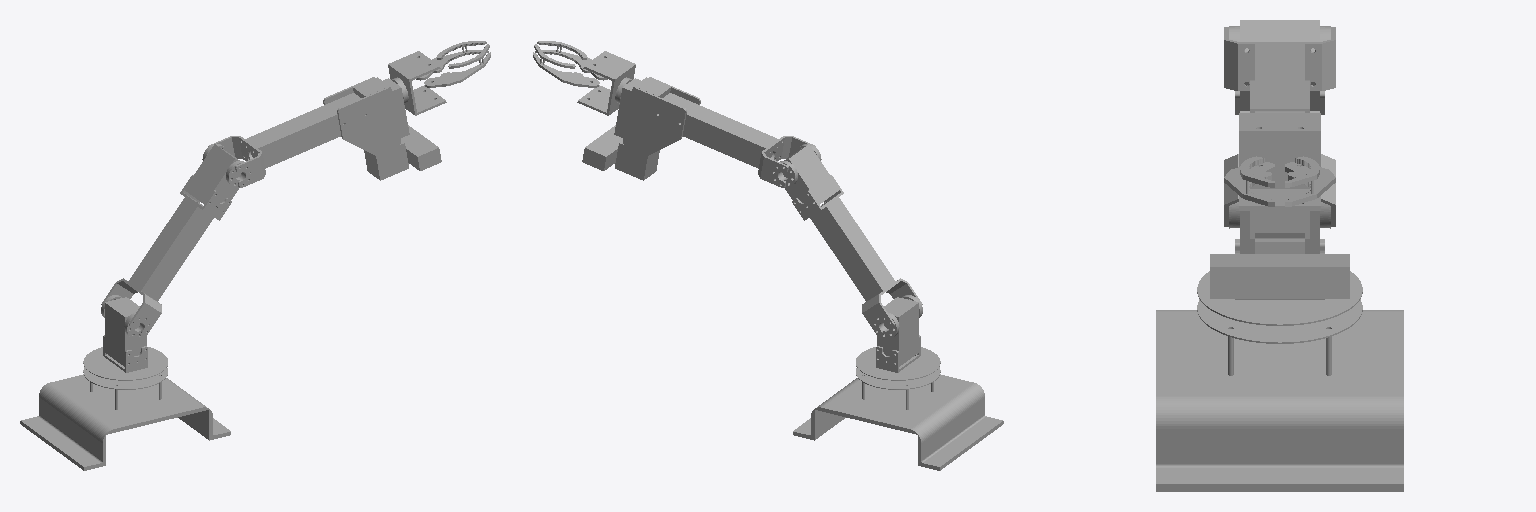
The robot description file, URDF, robot "angle_excurate_arm_ver2":
<?xml version="1.0" ?>
<!-- =================================================================================== -->
<!-- |    This document was autogenerated by xacro from urdf\angle_excurate_arm_ver2.xacro.temp | -->
<!-- |    EDITING THIS FILE BY HAND IS NOT RECOMMENDED                                 | -->
<!-- =================================================================================== -->
<robot xmlns:xacro="http://www.ros.org/wiki/xacro" name="angle_excurate_arm_ver2">
  <material name="silver">
    <color rgba="0.700 0.700 0.700 1.000"/>
  </material>
  <transmission name="Revolute 1_tran">
    <type>transmission_interface/SimpleTransmission</type>
    <joint name="Revolute 1">
      <hardwareInterface>hardware_interface/EffortJointInterface</hardwareInterface>
    </joint>
    <actuator name="Revolute 1_actr">
      <hardwareInterface>hardware_interface/EffortJointInterface</hardwareInterface>
      <mechanicalReduction>1</mechanicalReduction>
    </actuator>
  </transmission>
  <transmission name="Revolute 2_tran">
    <type>transmission_interface/SimpleTransmission</type>
    <joint name="Revolute 2">
      <hardwareInterface>hardware_interface/EffortJointInterface</hardwareInterface>
    </joint>
    <actuator name="Revolute 2_actr">
      <hardwareInterface>hardware_interface/EffortJointInterface</hardwareInterface>
      <mechanicalReduction>1</mechanicalReduction>
    </actuator>
  </transmission>
  <transmission name="Revolute 3_tran">
    <type>transmission_interface/SimpleTransmission</type>
    <joint name="Revolute 3">
      <hardwareInterface>hardware_interface/EffortJointInterface</hardwareInterface>
    </joint>
    <actuator name="Revolute 3_actr">
      <hardwareInterface>hardware_interface/EffortJointInterface</hardwareInterface>
      <mechanicalReduction>1</mechanicalReduction>
    </actuator>
  </transmission>
  <transmission name="Revolute 4_tran">
    <type>transmission_interface/SimpleTransmission</type>
    <joint name="Revolute 4">
      <hardwareInterface>hardware_interface/EffortJointInterface</hardwareInterface>
    </joint>
    <actuator name="Revolute 4_actr">
      <hardwareInterface>hardware_interface/EffortJointInterface</hardwareInterface>
      <mechanicalReduction>1</mechanicalReduction>
    </actuator>
  </transmission>
  <transmission name="Revolute 5_tran">
    <type>transmission_interface/SimpleTransmission</type>
    <joint name="Revolute 5">
      <hardwareInterface>hardware_interface/EffortJointInterface</hardwareInterface>
    </joint>
    <actuator name="Revolute 5_actr">
      <hardwareInterface>hardware_interface/EffortJointInterface</hardwareInterface>
      <mechanicalReduction>1</mechanicalReduction>
    </actuator>
  </transmission>
  <transmission name="Revolute 6_tran">
    <type>transmission_interface/SimpleTransmission</type>
    <joint name="Revolute 6">
      <hardwareInterface>hardware_interface/EffortJointInterface</hardwareInterface>
    </joint>
    <actuator name="Revolute 6_actr">
      <hardwareInterface>hardware_interface/EffortJointInterface</hardwareInterface>
      <mechanicalReduction>1</mechanicalReduction>
    </actuator>
  </transmission>
  <!-- omitted .gazebo include -->
  <link name="base_link">
    <inertial>
      <origin xyz="1.8745796736605483e-12 -2.6846557552026664e-18 0.04000014999999999" rpy="0 0 0"/>
      <mass value="7.925585093654501e-07"/>
      <inertia ixx="0.0" iyy="0.0" izz="0.0" ixy="-0.0" iyz="-0.0" ixz="-0.0"/>
    </inertial>
    <visual>
      <origin xyz="0 0 0" rpy="0 0 0"/>
      <geometry>
        <mesh filename="package://robot_description/meshes/base_link.stl" scale="0.001 0.001 0.001"/>
      </geometry>
      <material name="silver"/>
    </visual>
    <collision>
      <origin xyz="0 0 0" rpy="0 0 0"/>
      <geometry>
        <mesh filename="package://robot_description/meshes/base_link.stl" scale="0.001 0.001 0.001"/>
      </geometry>
    </collision>
  </link>
  <link name="base_link2_v2_1">
    <inertial>
      <origin xyz="-5.553953613832533e-14 1.6607364926774611e-07 0.04484512943360931" rpy="0 0 0"/>
      <mass value="0.8724221516717809"/>
      <inertia ixx="0.000636" iyy="0.000529" izz="0.000308" ixy="0.0" iyz="0.0" ixz="0.0"/>
    </inertial>
    <visual>
      <origin xyz="0.0 -0.0 -0.076" rpy="0 0 0"/>
      <geometry>
        <mesh filename="package://robot_description/meshes/base_link2_v2_1.stl" scale="0.001 0.001 0.001"/>
      </geometry>
      <material name="silver"/>
    </visual>
    <collision>
      <origin xyz="0.0 -0.0 -0.076" rpy="0 0 0"/>
      <geometry>
        <mesh filename="package://robot_description/meshes/base_link2_v2_1.stl" scale="0.001 0.001 0.001"/>
      </geometry>
    </collision>
  </link>
  <link name="link3_v1_1">
    <inertial>
      <origin xyz="0.08484392825641267 8.013781706481686e-08 0.10111325630955267" rpy="0 0 0"/>
      <mass value="1.7894494256516058"/>
      <inertia ixx="0.00475" iyy="0.007559" izz="0.003484" ixy="-0.0" iyz="-0.0" ixz="-0.003589"/>
    </inertial>
    <visual>
      <origin xyz="0.0 0.0 -0.146342" rpy="0 0 0"/>
      <geometry>
        <mesh filename="package://robot_description/meshes/link3_v1_1.stl" scale="0.001 0.001 0.001"/>
      </geometry>
      <material name="silver"/>
    </visual>
    <collision>
      <origin xyz="0.0 0.0 -0.146342" rpy="0 0 0"/>
      <geometry>
        <mesh filename="package://robot_description/meshes/link3_v1_1.stl" scale="0.001 0.001 0.001"/>
      </geometry>
    </collision>
  </link>
  <link name="link4_v1_1">
    <inertial>
      <origin xyz="0.15672887830534532 1.2952542993477877e-09 0.010698555149691258" rpy="0 0 0"/>
      <mass value="2.6308677332376194"/>
      <inertia ixx="0.002021" iyy="0.01307" izz="0.011727" ixy="-0.0" iyz="0.0" ixz="0.000564"/>
    </inertial>
    <visual>
      <origin xyz="-0.137776 0.0 -0.310538" rpy="0 0 0"/>
      <geometry>
        <mesh filename="package://robot_description/meshes/link4_v1_1.stl" scale="0.001 0.001 0.001"/>
      </geometry>
      <material name="silver"/>
    </visual>
    <collision>
      <origin xyz="-0.137776 0.0 -0.310538" rpy="0 0 0"/>
      <geometry>
        <mesh filename="package://robot_description/meshes/link4_v1_1.stl" scale="0.001 0.001 0.001"/>
      </geometry>
    </collision>
  </link>
  <link name="robot_ver7_link_4_v1_1">
    <inertial>
      <origin xyz="0.017892495703135003 -1.6181256950123296e-09 0.003154951933928285" rpy="0 0 0"/>
      <mass value="0.1836674229836172"/>
      <inertia ixx="9.9e-05" iyy="0.000103" izz="7.2e-05" ixy="0.0" iyz="0.0" ixz="5e-06"/>
    </inertial>
    <visual>
      <origin xyz="-0.36806 0.0 -0.352664" rpy="0 0 0"/>
      <geometry>
        <mesh filename="package://robot_description/meshes/robot_ver7_link_4_v1_1.stl" scale="0.001 0.001 0.001"/>
      </geometry>
      <material name="silver"/>
    </visual>
    <collision>
      <origin xyz="-0.36806 0.0 -0.352664" rpy="0 0 0"/>
      <geometry>
        <mesh filename="package://robot_description/meshes/robot_ver7_link_4_v1_1.stl" scale="0.001 0.001 0.001"/>
      </geometry>
    </collision>
  </link>
  <link name="robot_ver7_grap2_2_v1_1">
    <inertial>
      <origin xyz="0.031884649247926056 -0.0055870722111976065 0.00827502813362807" rpy="0 0 0"/>
      <mass value="0.04062678364092949"/>
      <inertia ixx="4e-06" iyy="2.6e-05" izz="2.5e-05" ixy="-0.0" iyz="-0.0" ixz="-6e-06"/>
    </inertial>
    <visual>
      <origin xyz="-0.409619 0.0125 -0.359992" rpy="0 0 0"/>
      <geometry>
        <mesh filename="package://robot_description/meshes/robot_ver7_grap2_2_v1_1.stl" scale="0.001 0.001 0.001"/>
      </geometry>
      <material name="silver"/>
    </visual>
    <collision>
      <origin xyz="-0.409619 0.0125 -0.359992" rpy="0 0 0"/>
      <geometry>
        <mesh filename="package://robot_description/meshes/robot_ver7_grap2_2_v1_1.stl" scale="0.001 0.001 0.001"/>
      </geometry>
    </collision>
  </link>
  <link name="robot_ver7_grap1_2_v1_1">
    <inertial>
      <origin xyz="0.03188464924792761 0.0055870689749490735 0.008275028133627904" rpy="0 0 0"/>
      <mass value="0.040626783640931655"/>
      <inertia ixx="4e-06" iyy="2.6e-05" izz="2.5e-05" ixy="0.0" iyz="0.0" ixz="-6e-06"/>
    </inertial>
    <visual>
      <origin xyz="-0.409619 -0.0125 -0.359992" rpy="0 0 0"/>
      <geometry>
        <mesh filename="package://robot_description/meshes/robot_ver7_grap1_2_v1_1.stl" scale="0.001 0.001 0.001"/>
      </geometry>
      <material name="silver"/>
    </visual>
    <collision>
      <origin xyz="-0.409619 -0.0125 -0.359992" rpy="0 0 0"/>
      <geometry>
        <mesh filename="package://robot_description/meshes/robot_ver7_grap1_2_v1_1.stl" scale="0.001 0.001 0.001"/>
      </geometry>
    </collision>
  </link>
  <link name="base_link_2_1">
    <inertial>
      <origin xyz="-7.6976007193707615e-16 1.23599521765243e-16 -0.010056885130538304" rpy="0 0 0"/>
      <mass value="1.6067306789990348"/>
      <inertia ixx="0.003521" iyy="0.006468" izz="0.008802" ixy="0.0" iyz="-0.0" ixz="0.0"/>
    </inertial>
    <visual>
      <origin xyz="-0.0 -0.0 -0.04" rpy="0 0 0"/>
      <geometry>
        <mesh filename="package://robot_description/meshes/base_link_2_1.stl" scale="0.001 0.001 0.001"/>
      </geometry>
      <material name="silver"/>
    </visual>
    <collision>
      <origin xyz="-0.0 -0.0 -0.04" rpy="0 0 0"/>
      <geometry>
        <mesh filename="package://robot_description/meshes/base_link_2_1.stl" scale="0.001 0.001 0.001"/>
      </geometry>
    </collision>
  </link>
  <link name="camera_1">
    <inertial>
      <origin xyz="0.01477231181394828 2.1629406603551614e-08 0.002604519615801326" rpy="0 0 0"/>
      <mass value="0.4003499999999954"/>
      <inertia ixx="0.000255" iyy="4.3e-05" izz="0.000271" ixy="-0.0" iyz="-0.0" ixz="-3e-06"/>
    </inertial>
    <visual>
      <origin xyz="-0.37354 -0.0 -0.274937" rpy="0 0 0"/>
      <geometry>
        <mesh filename="package://robot_description/meshes/camera_1.stl" scale="0.001 0.001 0.001"/>
      </geometry>
      <material name="silver"/>
    </visual>
    <collision>
      <origin xyz="-0.37354 -0.0 -0.274937" rpy="0 0 0"/>
      <geometry>
        <mesh filename="package://robot_description/meshes/camera_1.stl" scale="0.001 0.001 0.001"/>
      </geometry>
    </collision>
  </link>
  <joint name="Revolute 1" type="revolute">
    <origin xyz="-0.0 0.0 0.036" rpy="0 0 0"/>
    <parent link="base_link_2_1"/>
    <child link="base_link2_v2_1"/>
    <axis xyz="0.0 -0.0 1.0"/>
    <limit upper="3.141593" lower="0.0" effort="100" velocity="100"/>
  </joint>
  <joint name="Revolute 2" type="revolute">
    <origin xyz="0.0 -0.0 0.070342" rpy="0 0 0"/>
    <parent link="base_link2_v2_1"/>
    <child link="link3_v1_1"/>
    <axis xyz="-0.0 -1.0 0.0"/>
    <limit upper="2.094395" lower="0.0" effort="100" velocity="100"/>
  </joint>
  <joint name="Revolute 3" type="revolute">
    <origin xyz="0.137776 0.0 0.164196" rpy="0 0 0"/>
    <parent link="link3_v1_1"/>
    <child link="link4_v1_1"/>
    <axis xyz="-0.0 -1.0 0.0"/>
    <limit upper="2.617994" lower="0.0" effort="100" velocity="100"/>
  </joint>
  <joint name="Revolute 4" type="revolute">
    <origin xyz="0.230284 0.0 0.042126" rpy="0 0 0"/>
    <parent link="link4_v1_1"/>
    <child link="robot_ver7_link_4_v1_1"/>
    <axis xyz="0.984808 0.0 0.173648"/>
    <limit upper="3.141593" lower="0.0" effort="100" velocity="100"/>
  </joint>
  <joint name="Revolute 5" type="revolute">
    <origin xyz="0.041559 -0.0125 0.007328" rpy="0 0 0"/>
    <parent link="robot_ver7_link_4_v1_1"/>
    <child link="robot_ver7_grap2_2_v1_1"/>
    <axis xyz="0.173648 -0.0 -0.984808"/>
    <limit upper="1.22173" lower="0.0" effort="100" velocity="100"/>
  </joint>
  <joint name="Revolute 6" type="revolute">
    <origin xyz="0.041559 0.0125 0.007328" rpy="0 0 0"/>
    <parent link="robot_ver7_link_4_v1_1"/>
    <child link="robot_ver7_grap1_2_v1_1"/>
    <axis xyz="-0.173648 0.0 0.984808"/>
    <limit upper="1.22173" lower="0.0" effort="100" velocity="100"/>
  </joint>
  <joint name="Rigid 8" type="fixed">
    <origin xyz="0.0 0.0 0.04" rpy="0 0 0"/>
    <parent link="base_link"/>
    <child link="base_link_2_1"/>
  </joint>
  <joint name="Rigid 11" type="fixed">
    <origin xyz="0.235764 0.0 -0.035601" rpy="0 0 0"/>
    <parent link="link4_v1_1"/>
    <child link="camera_1"/>
  </joint>
</robot>

--- Facts derived from the render (not from the file) ---
The picture shows the robot from 3 angles, left to right: view 1: azimuth 30°, elevation 25°; view 2: azimuth 150°, elevation 25°; view 3: azimuth 270°, elevation 25°; orthographic projection.
Robot: angle_excurate_arm_ver2 — 9 links, 8 joints (6 revolute, 2 fixed); root link base_link; default pose: all joints at 0.
Visible links, largest first — view 1: base_link_2_1, link4_v1_1, link3_v1_1, base_link2_v2_1, robot_ver7_link_4_v1_1, camera_1, robot_ver7_grap2_2_v1_1, robot_ver7_grap1_2_v1_1; view 2: base_link_2_1, link4_v1_1, link3_v1_1, base_link2_v2_1, robot_ver7_link_4_v1_1, camera_1, robot_ver7_grap1_2_v1_1, robot_ver7_grap2_2_v1_1; view 3: base_link_2_1, link4_v1_1, camera_1, robot_ver7_link_4_v1_1, base_link2_v2_1, link3_v1_1, robot_ver7_grap2_2_v1_1, robot_ver7_grap1_2_v1_1.
Link boxes in pixels (left/top/right/bottom): base_link_2_1: left=20, top=367, right=230, bottom=470; link4_v1_1: left=202, top=77, right=409, bottom=187; link3_v1_1: left=101, top=144, right=241, bottom=338; base_link2_v2_1: left=83, top=297, right=167, bottom=380; robot_ver7_link_4_v1_1: left=388, top=51, right=446, bottom=115; camera_1: left=401, top=125, right=441, bottom=170; robot_ver7_grap2_2_v1_1: left=424, top=44, right=490, bottom=87; robot_ver7_grap1_2_v1_1: left=416, top=41, right=488, bottom=80; base_link_2_1: left=793, top=367, right=1003, bottom=470; link4_v1_1: left=614, top=77, right=821, bottom=187; link3_v1_1: left=782, top=144, right=922, bottom=338; base_link2_v2_1: left=856, top=297, right=940, bottom=380; robot_ver7_link_4_v1_1: left=577, top=51, right=635, bottom=115; camera_1: left=582, top=125, right=622, bottom=170; robot_ver7_grap1_2_v1_1: left=533, top=44, right=599, bottom=87; robot_ver7_grap2_2_v1_1: left=535, top=41, right=607, bottom=80; base_link_2_1: left=1156, top=299, right=1403, bottom=491; link4_v1_1: left=1224, top=26, right=1335, bottom=253; camera_1: left=1210, top=254, right=1349, bottom=298; robot_ver7_link_4_v1_1: left=1239, top=113, right=1320, bottom=210; base_link2_v2_1: left=1197, top=211, right=1362, bottom=325; link3_v1_1: left=1224, top=20, right=1335, bottom=228; robot_ver7_grap2_2_v1_1: left=1224, top=156, right=1274, bottom=206; robot_ver7_grap1_2_v1_1: left=1285, top=156, right=1335, bottom=206.
Bounding box of the posed robot: 0.5947 × 0.15 × 0.3882 m (x, y, z).
Meshes: 9 distinct files referenced, 9 mesh visuals loaded (9 binary STL).